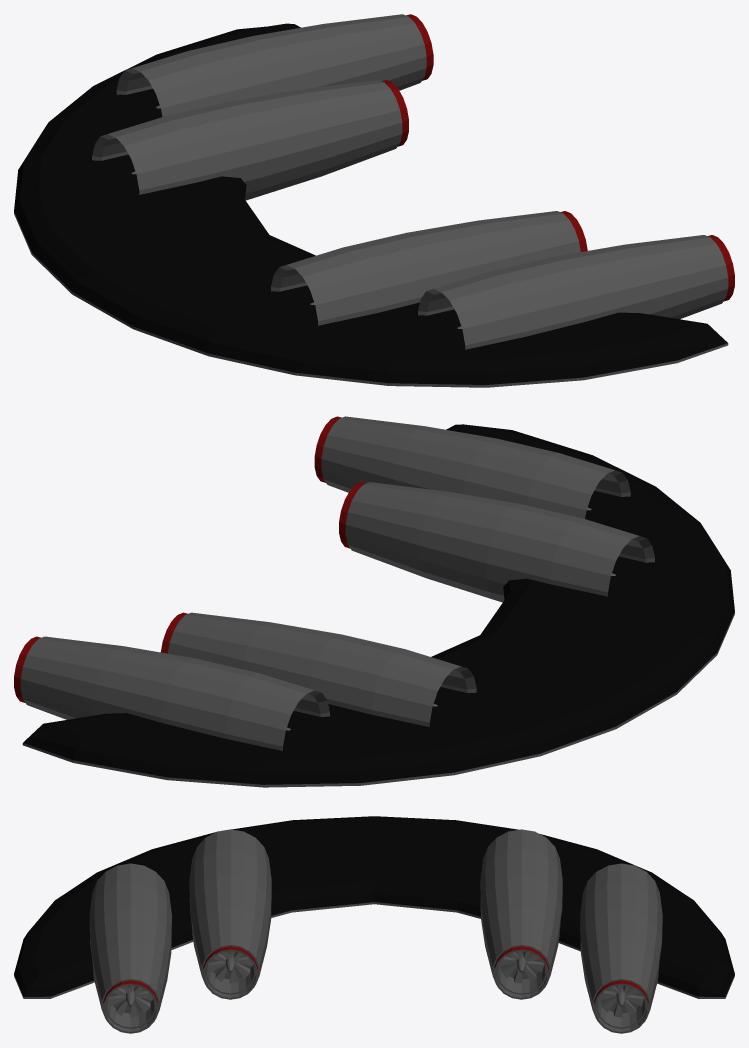
File: Ailes_5.FBX
The picture shows the model from 3 angles, top to bottom: view 1: azimuth 30°, elevation 25°; view 2: azimuth 150°, elevation 25°; view 3: azimuth 270°, elevation 25°; orthographic projection. The views are drawn at different scales.
Parts seen in each view (by area): view 1: Circle001; view 2: Circle001; view 3: Circle001.
Boxes of the visible parts, box(x1,y1,x2,y2) form: Circle001: box(14, 14, 734, 387); Circle001: box(14, 416, 734, 787); Circle001: box(14, 816, 734, 1033).
Bounding box in the file's own units: 146 × 26.26 × 226.
